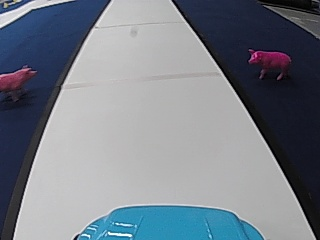pig: (244, 45, 292, 78), (0, 62, 36, 101)
